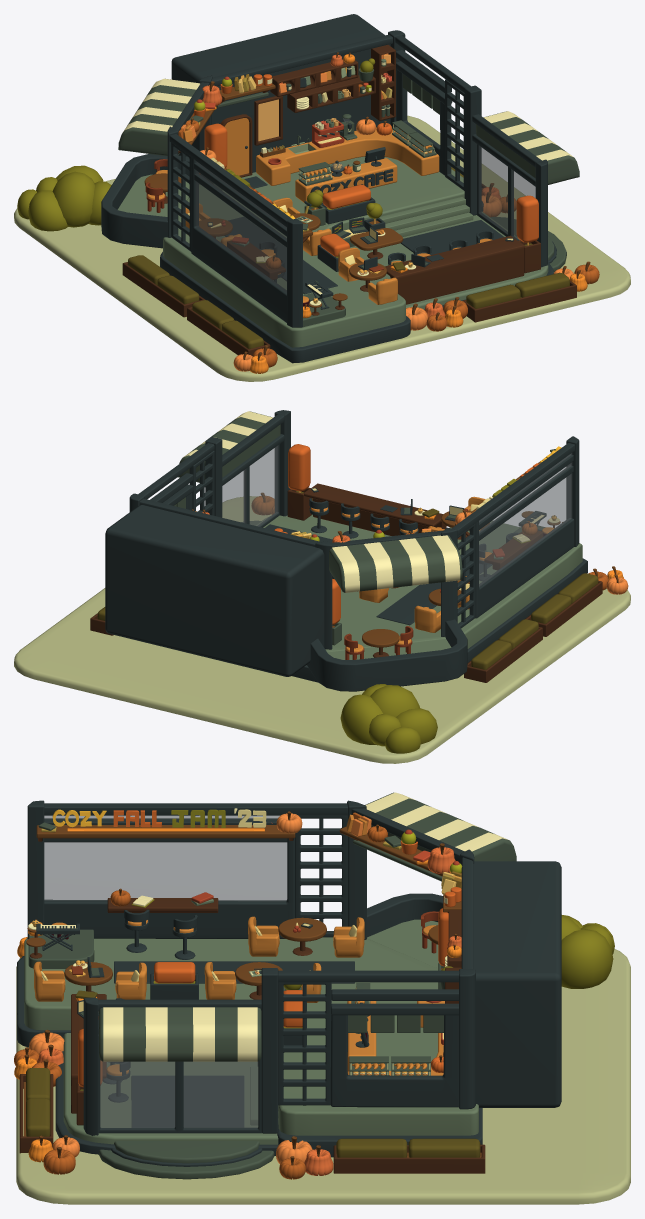
Rendered from CozyCafe.fbx.
3 views of the same model, one above another, from view 1: azimuth 30°, elevation 25°; view 2: azimuth 150°, elevation 25°; view 3: azimuth 270°, elevation 25° (orthographic). The views are drawn at different scales.
Visible parts, largest first — view 1: SM_Cafe, SM_Floor, SM_GlassPane_01, SM_OutsideBush_06, SM_OutsideBush_02, SM_GlassPane_02, SM_OutsideBush_04, SM_OutsideBush_05, SM_CupboardShelf_02, SM_Counter, SM_CupboardShelf_03, SM_CupboardShelf_01 (+13 smaller); view 2: SM_Cafe, SM_Floor, SM_GlassPane_01, SM_OutsideBush_06, SM_GlassPane_02, SM_OutsideBush_04, SM_OutsideBush_05, SM_TallPotPlant_01, SM_LongRug, SM_RoundTable_04, SM_Couch_04, SM_TallPotPlant_02; view 3: SM_Cafe, SM_Floor, SM_GlassPane_01, SM_GlassPane_02, SM_OutsideBush_01, SM_OutsideBush_06, SM_Shelf_01, SM_OutsideBush_02, SM_LongRug, SM_IndoorBush1, SM_Stage, SM_Shelf_02 (+25 smaller).
Boxes of the visible parts, x1,y1,x2,y2 form: SM_Cafe: (101,14,579,363); SM_Floor: (14,115,630,381); SM_GlassPane_01: (196,161,286,292); SM_OutsideBush_06: (17,165,111,231); SM_OutsideBush_02: (462,272,576,322); SM_GlassPane_02: (479,146,535,240); SM_OutsideBush_04: (122,255,205,317); SM_OutsideBush_05: (187,300,270,355); SM_CupboardShelf_02: (270,59,358,96); SM_Counter: (295,158,397,202); SM_CupboardShelf_03: (287,75,375,112); SM_CupboardShelf_01: (371,45,395,120); SM_Cafe: (105,410,587,691); SM_Floor: (14,496,630,763); SM_GlassPane_01: (479,453,571,586); SM_OutsideBush_06: (340,684,437,753); SM_GlassPane_02: (222,445,278,526); SM_OutsideBush_04: (464,619,542,682); SM_OutsideBush_05: (525,573,602,636); SM_TallPotPlant_01: (287,444,312,520); SM_LongRug: (376,551,491,625); SM_RoundTable_04: (362,629,399,657); SM_Couch_04: (414,605,440,632); SM_TallPotPlant_02: (332,579,341,645); SM_Cafe: (17,792,561,1179); SM_Floor: (16,949,630,1204); SM_GlassPane_01: (44,815,287,901); SM_GlassPane_02: (100,1060,258,1127); SM_OutsideBush_01: (333,1138,485,1173); SM_OutsideBush_06: (561,915,614,988); SM_Shelf_01: (36,825,295,841); SM_OutsideBush_02: (19,1068,53,1153); SM_LongRug: (114,961,354,983); SM_IndoorBush1: (150,962,198,999); SM_Stage: (28,929,94,968); SM_Shelf_02: (339,826,449,881).
Bounding box in the file's own units: 1818 × 658 × 1859.
